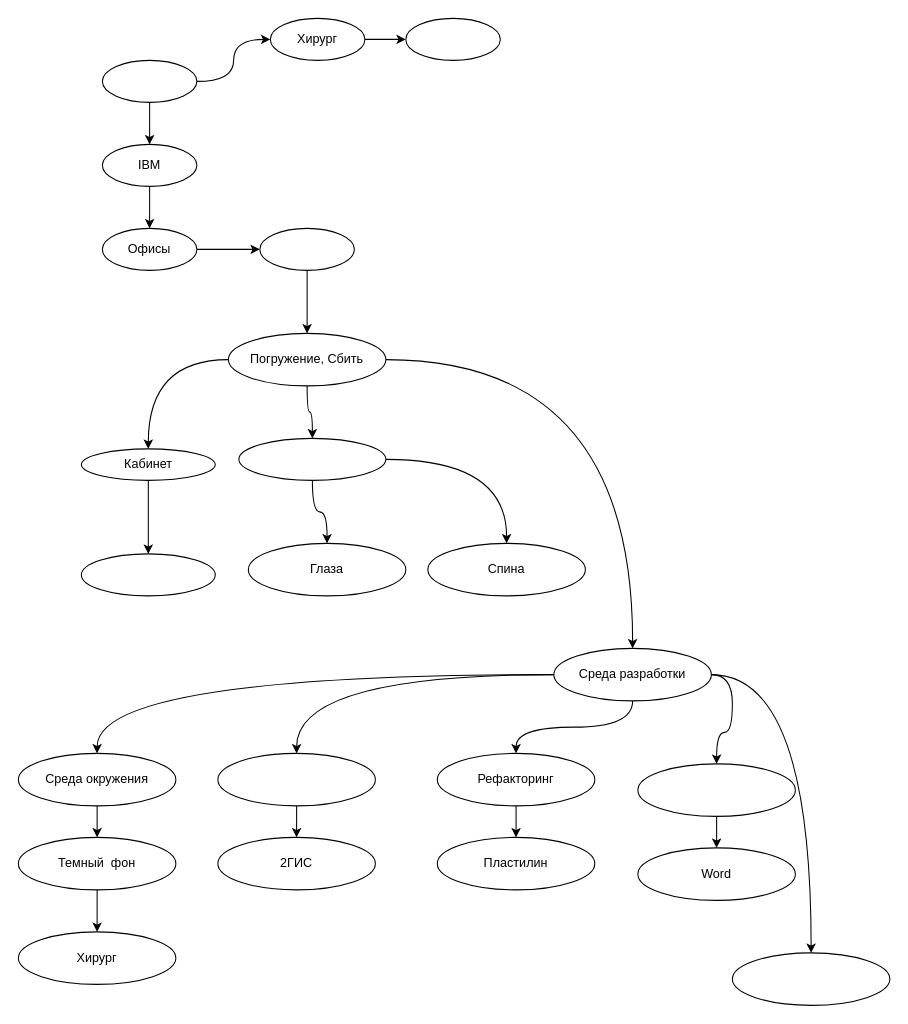
The diagram is 908 pixels wide and 1024 high, and some of its shapes have lost their labels. The centre of each missing label's shape, as x and y in pixels:
"Анализ" goes at point 716,789.
"Звонки, почта" goes at point 147,574.
"Здоровье" goes at point 312,458.
"Издалека" goes at point 452,38.
"Навигация" goes at point 296,779.
"Поток" goes at point 306,248.
"Привет" goes at point 149,80.
"Удовольствие" goes at point 810,978.
